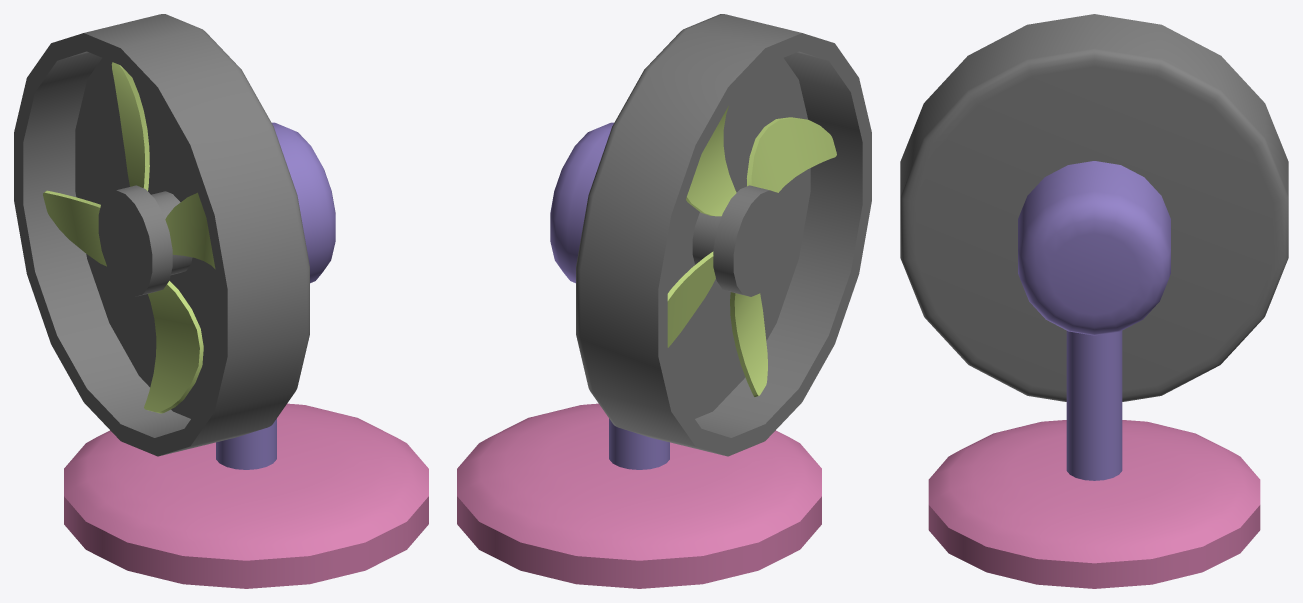
The model's file is SM_Fan_V02.fbx.
3 renders of one model, left to right at view 1: azimuth 30°, elevation 25°; view 2: azimuth 150°, elevation 25°; view 3: azimuth 270°, elevation 25°, orthographic. The views are drawn at different scales.
Visible parts, largest first — view 1: Cylinder003, Cylinder001, Box004, Cylinder005; view 2: Cylinder003, Cylinder001, Box004, Cylinder005; view 3: Cylinder003, Cylinder001, Cylinder005.
Part boxes in pixels (x1=…): Cylinder003: x1=14, y1=14, x2=309, y2=456; Cylinder001: x1=64, y1=403, x2=428, y2=588; Box004: x1=43, y1=62, x2=215, y2=413; Cylinder005: x1=216, y1=122, x2=335, y2=469; Cylinder003: x1=576, y1=14, x2=871, y2=456; Cylinder001: x1=457, y1=403, x2=821, y2=588; Box004: x1=667, y1=106, x2=836, y2=396; Cylinder005: x1=550, y1=122, x2=669, y2=469; Cylinder003: x1=900, y1=14, x2=1288, y2=401; Cylinder001: x1=928, y1=420, x2=1260, y2=588; Cylinder005: x1=1018, y1=161, x2=1170, y2=480.
Bounding box in the file's own units: 73.72 × 108 × 84.92.
